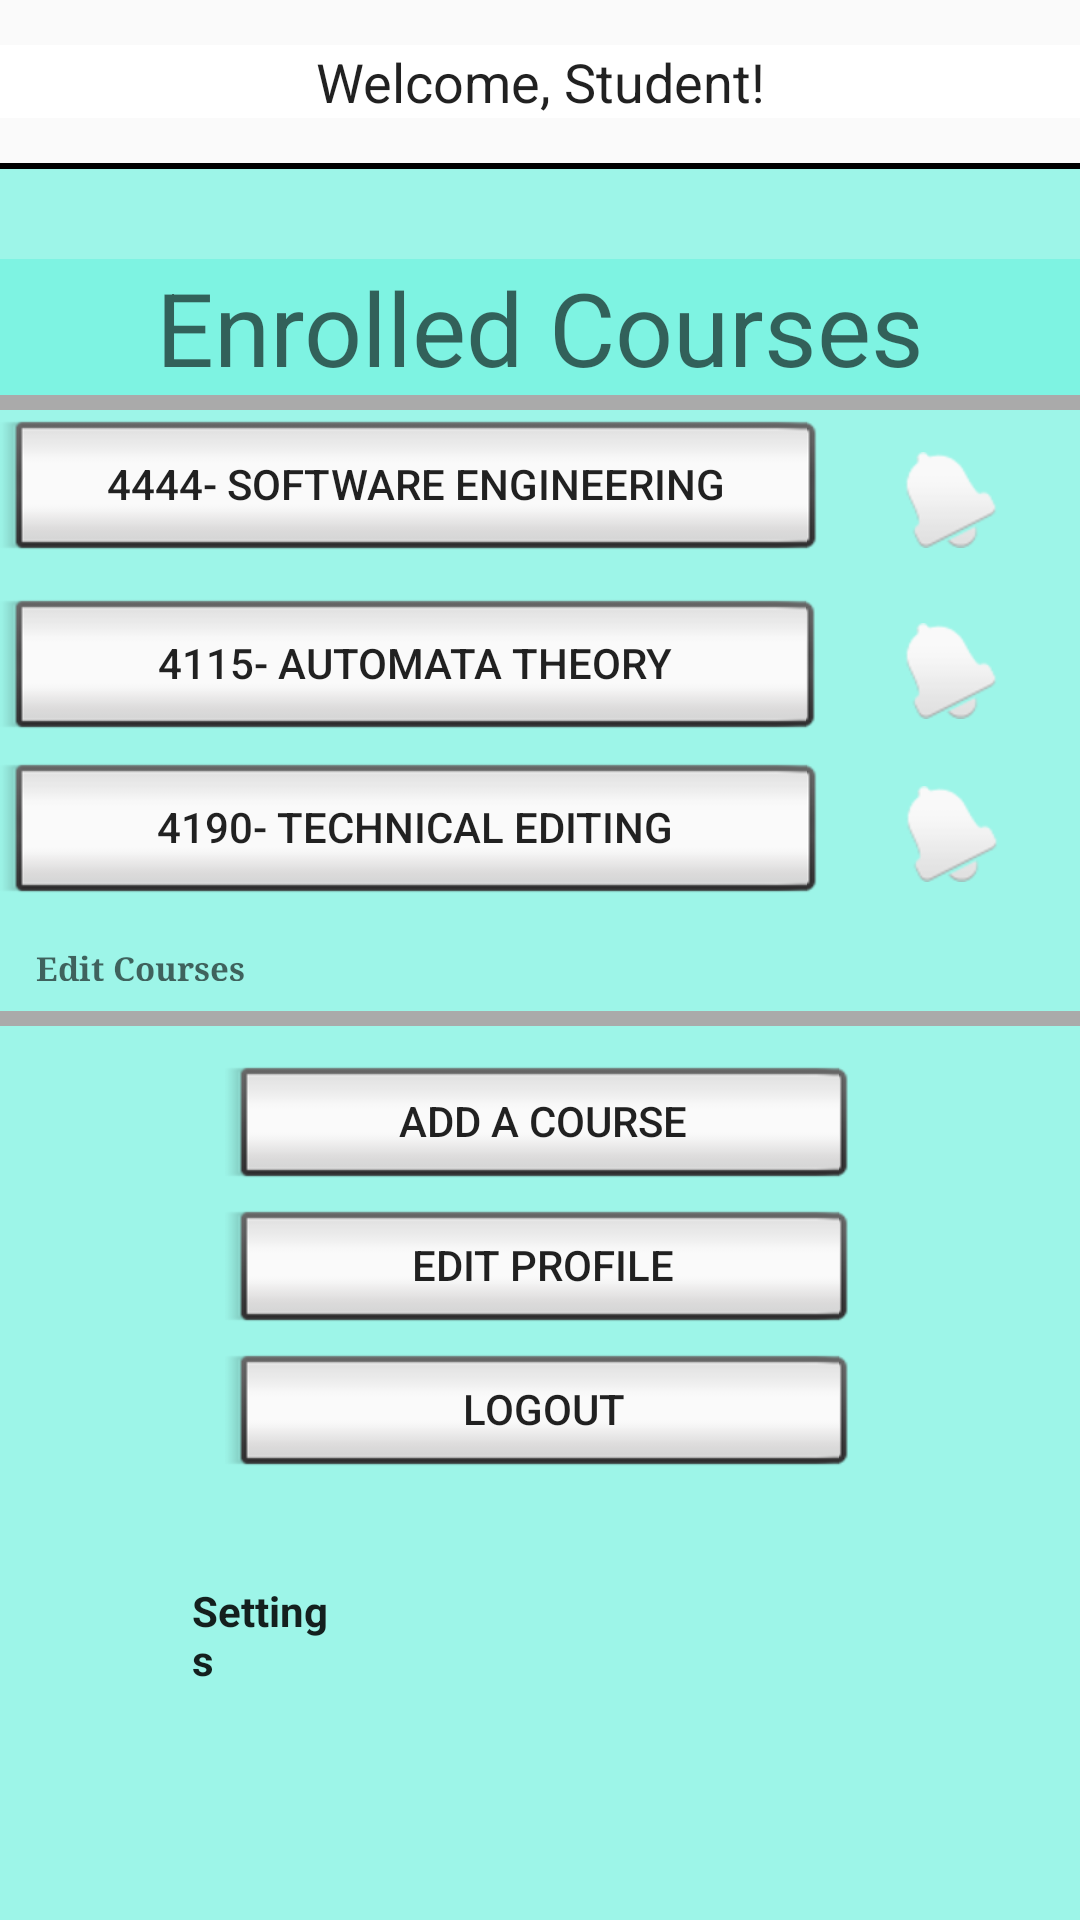

Screen size 1080×1920. Icon name, then its box in pixels as BBox(x1, y1, x2, y2):
popup reminder: BBox(906, 452, 995, 548), BBox(906, 623, 995, 719), BBox(907, 786, 996, 882)
